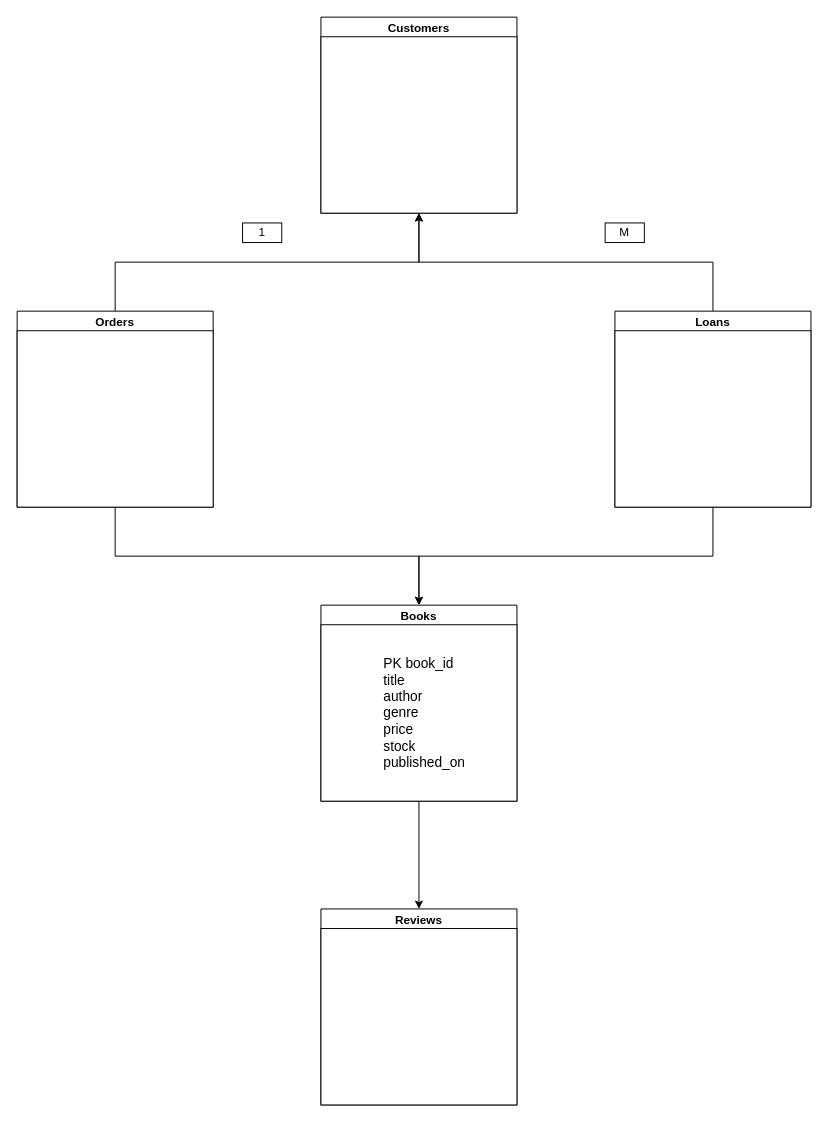
This 828x1122 diagram has some shape labels left out. The centre of each missing label's shape, as x and y in pixels:
"PK customer_id name email city joined_on membership" belongs at (418,124).
"PK loan_id FK customer_id FK book_id loan_date due_date return_date" belongs at (712,418).
"PK order_id FK customer_id FK book_id order_date quantity status" belongs at (114,418).
"PK review_id FK customer_id FK book_id rating created_at review_text created_at" belongs at (418,1016).
